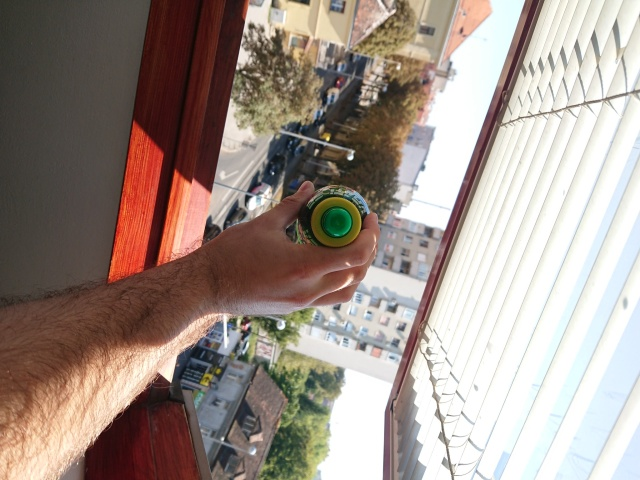Vindi Iso Sport Lemon-Grapefruit 500mL: (294, 182, 374, 264)
